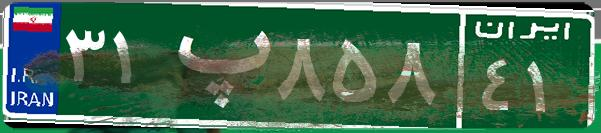1: (110, 28, 158, 105), (525, 38, 570, 115)
3: (57, 26, 110, 107)
4: (475, 38, 525, 113)
5: (330, 28, 385, 110)
8: (385, 28, 445, 110), (273, 28, 330, 110)
پ: (158, 15, 273, 115)
